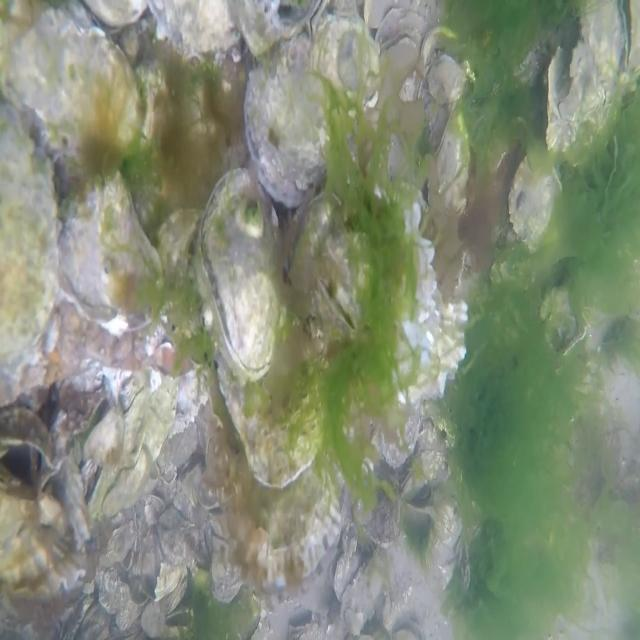Oyster-Closed: (12, 11, 153, 150), (197, 152, 285, 371), (63, 170, 156, 361), (0, 106, 59, 393), (238, 22, 326, 195), (218, 349, 322, 472), (329, 486, 353, 550)
Oyster-Indeterminate: (212, 445, 326, 577), (2, 458, 86, 619)
